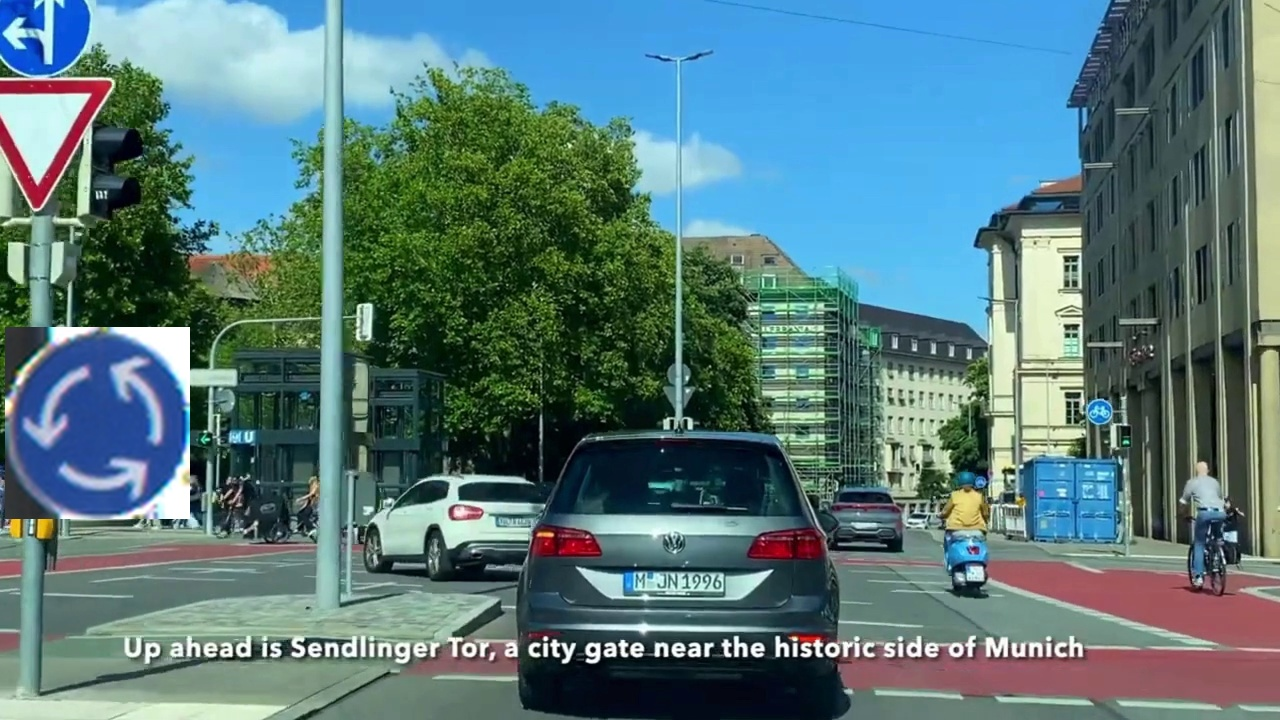Roundabout: (5, 327, 190, 519)
